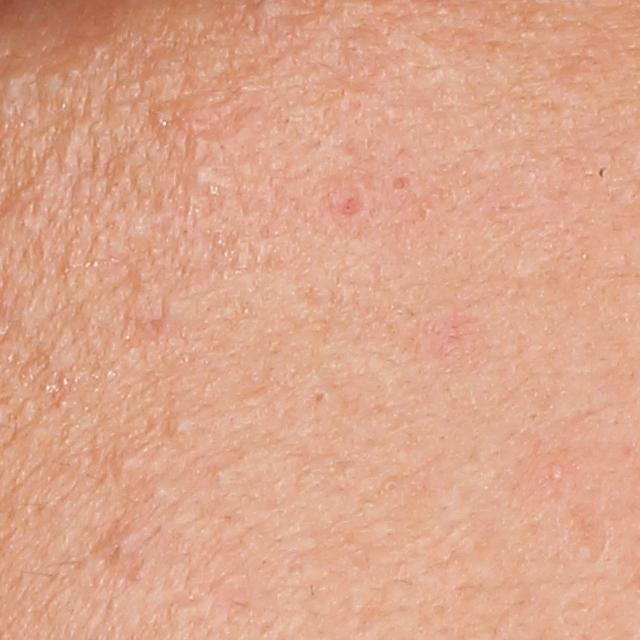atrophic_scar: (562, 511, 610, 560)
comedo: (187, 159, 223, 193), (165, 407, 192, 436), (110, 451, 138, 475), (390, 173, 414, 193), (210, 466, 231, 483), (546, 465, 565, 481), (312, 390, 325, 407)
